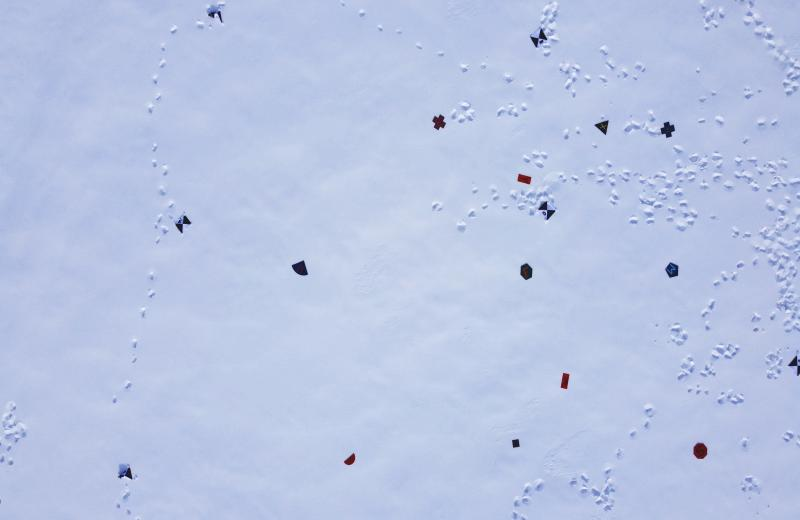Cross: (659, 120, 677, 140), (432, 114, 447, 131)
Hexagon: (519, 263, 534, 280)
Octagon: (693, 442, 708, 460)
Pentagon: (664, 262, 680, 278)
Quarter Circle: (292, 260, 308, 276)
Rectangle: (517, 173, 532, 185), (560, 372, 570, 390)
Semi Circle: (343, 452, 356, 465)
Square: (512, 439, 520, 448)
Triangle: (594, 120, 610, 135)
